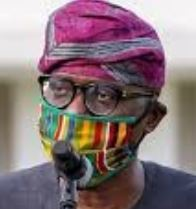with_facemask: (36, 104, 136, 183)
